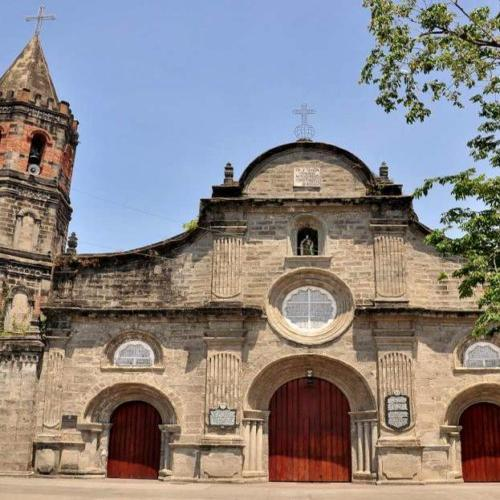Barasoain Church: (1, 1, 499, 483)
